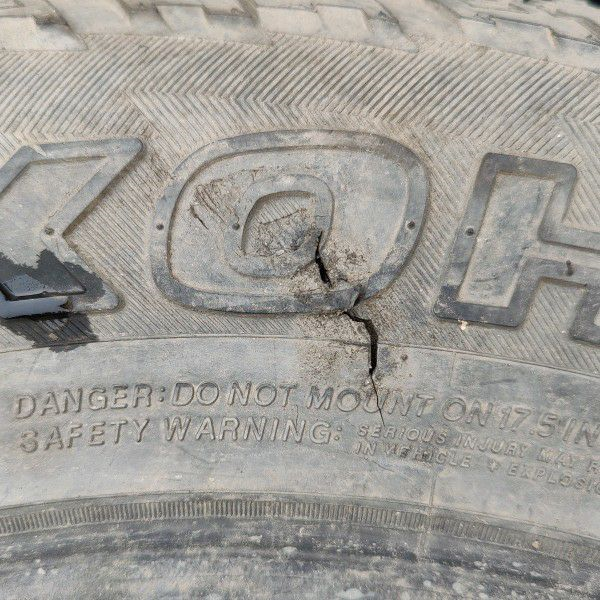cut: (344, 310, 385, 423), (314, 229, 335, 290)
